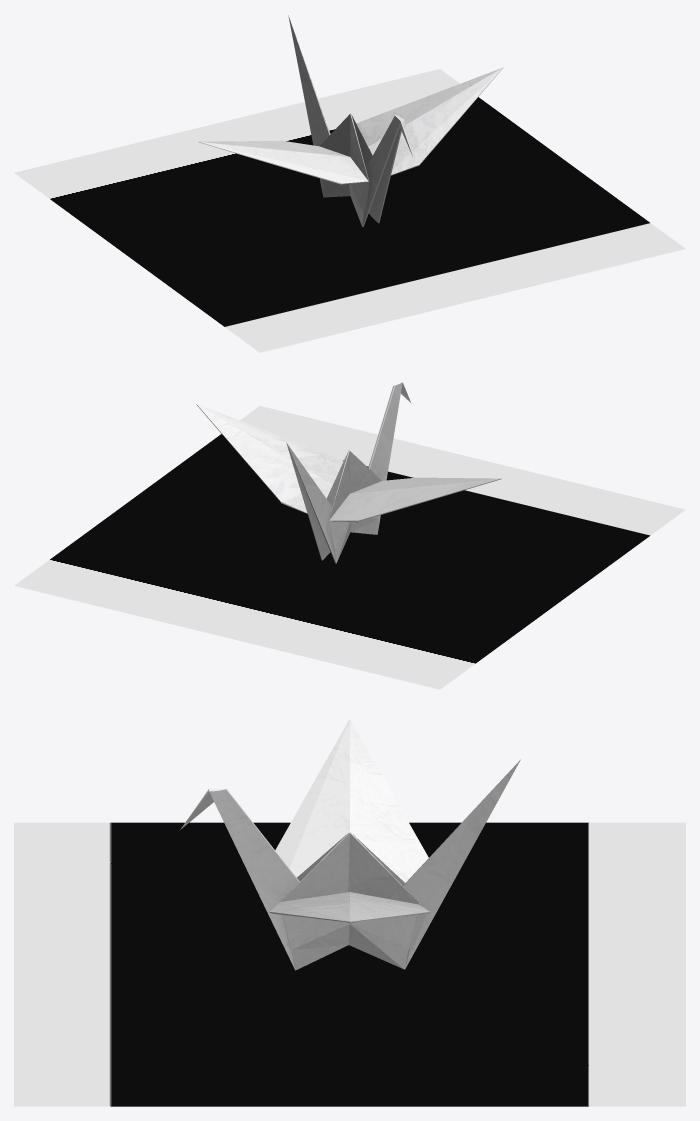
File: Tsuru.obj
3 views of the same model, one above another, from view 1: azimuth 30°, elevation 25°; view 2: azimuth 150°, elevation 25°; view 3: azimuth 270°, elevation 25° (orthographic). The views are drawn at different scales.
Visible parts, largest first — view 1: Plane, Plane.034_Plane.029; view 2: Plane, Plane.034_Plane.029; view 3: Plane, Plane.034_Plane.029.
Part boxes in pixels (x1,y1,x2,y2): Plane: [14, 69, 685, 352]; Plane.034_Plane.029: [198, 14, 503, 227]; Plane: [14, 406, 685, 689]; Plane.034_Plane.029: [196, 381, 501, 563]; Plane: [14, 822, 685, 1106]; Plane.034_Plane.029: [180, 719, 520, 970].
Size of the model in its own units: 4.51 by 1.53 by 4.51.
Materials: 2 (2 with a texture image).
